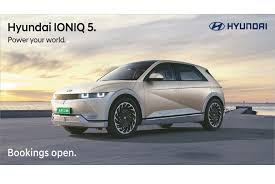Honda Ioniq: (42, 54, 232, 142)
